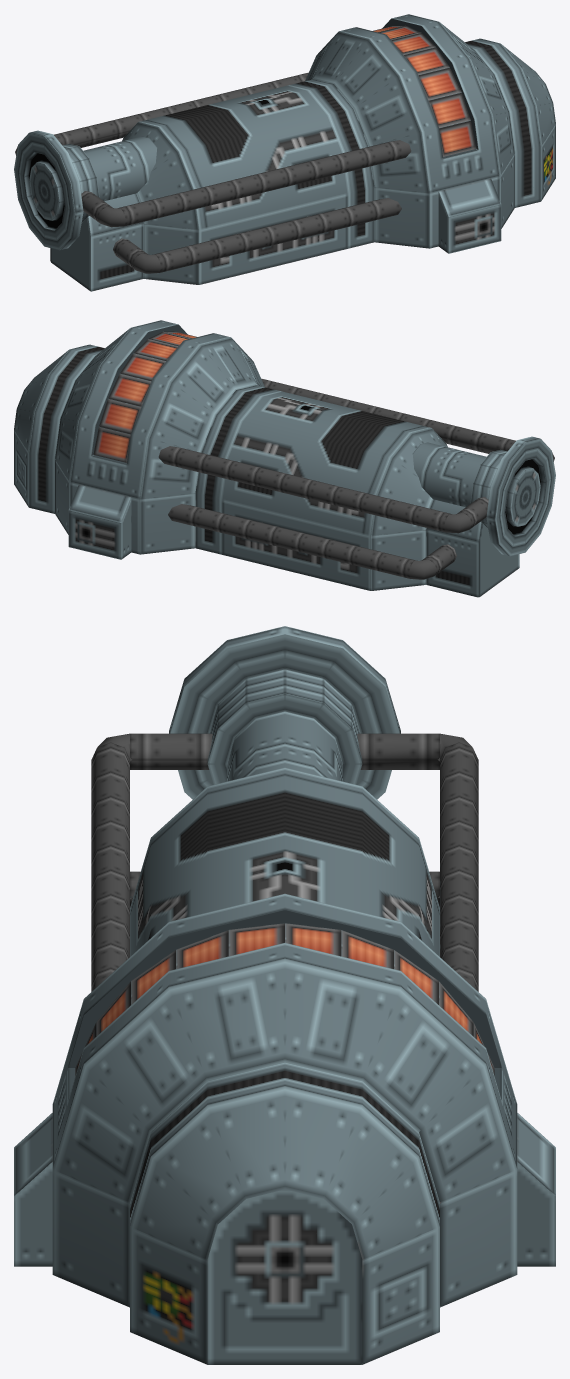
File: mhdt.obj
The picture shows the model from 3 angles, top to bottom: view 1: azimuth 30°, elevation 25°; view 2: azimuth 150°, elevation 25°; view 3: azimuth 270°, elevation 25°; orthographic projection. The views are drawn at different scales.
Parts seen in each view (by area): view 1: Turbine, Coils; view 2: Turbine, Coils; view 3: Turbine, Coils.
Part boxes in pixels (x1,y1,x2,y2): Turbine: (14, 14, 555, 291); Coils: (373, 25, 476, 156); Turbine: (14, 320, 555, 597); Coils: (93, 331, 196, 462); Turbine: (14, 626, 555, 1364); Coils: (75, 923, 494, 1075).
Size of the model in its own units: 14 by 4.5 by 7.
